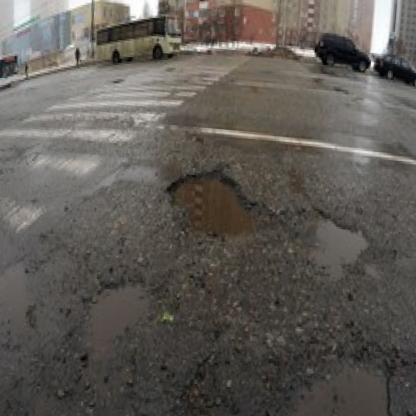pothole: (163, 163, 260, 244), (78, 273, 150, 365), (304, 213, 371, 282)
